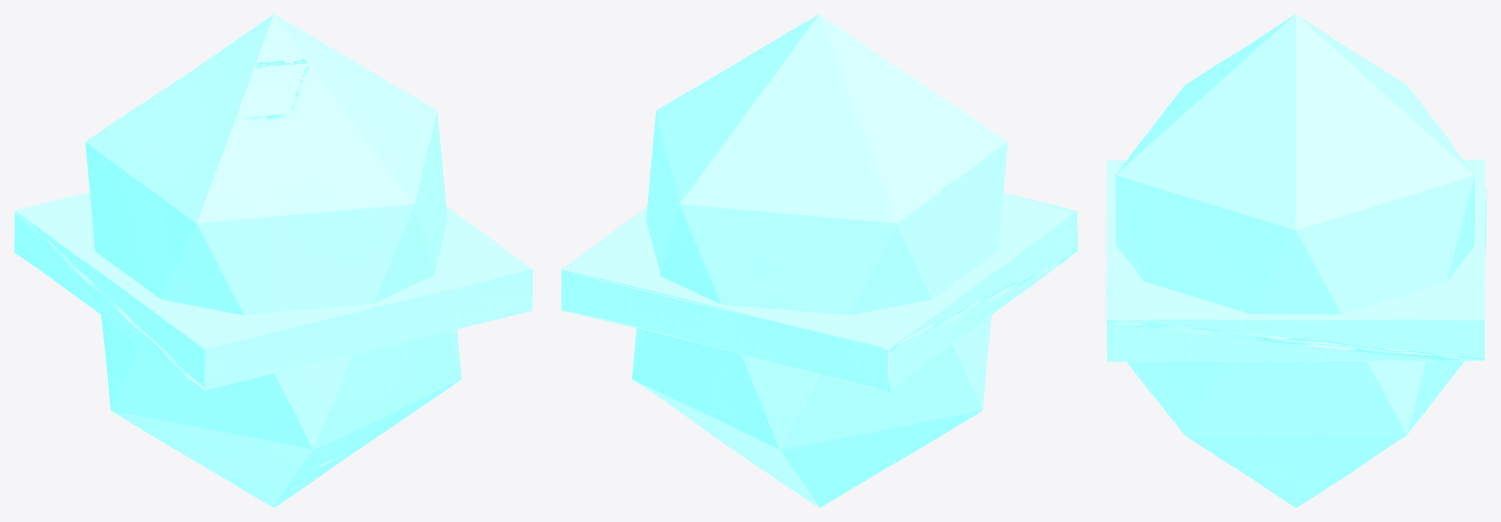
The model's file is gem.glb.
3 views of the same model, side by side, from view 1: azimuth 30°, elevation 25°; view 2: azimuth 150°, elevation 25°; view 3: azimuth 270°, elevation 25° (orthographic).
Parts seen in each view (by area): view 1: Gem; view 2: Gem; view 3: Gem.
Part boxes in pixels (bbox=[...]): Gem: bbox=[14, 14, 532, 507]; Gem: bbox=[561, 14, 1077, 507]; Gem: bbox=[1106, 14, 1486, 507].
Size of the model in its own units: 0.503 by 0.7203 by 0.5027.
